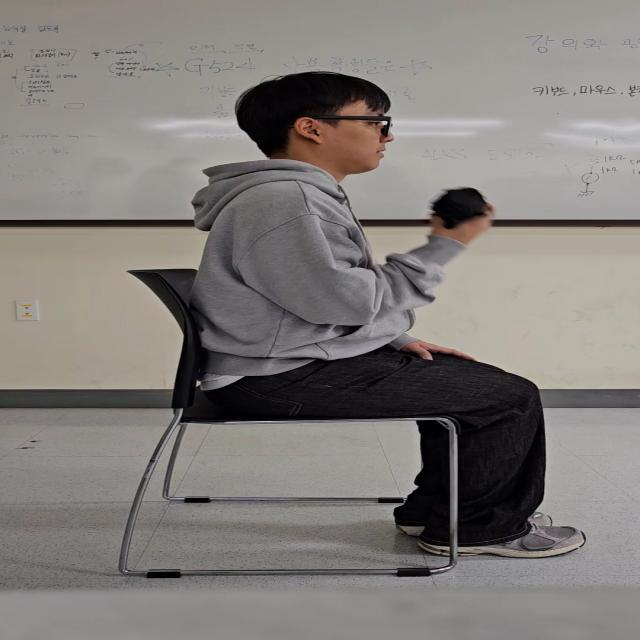curl: (244, 186, 488, 334)
